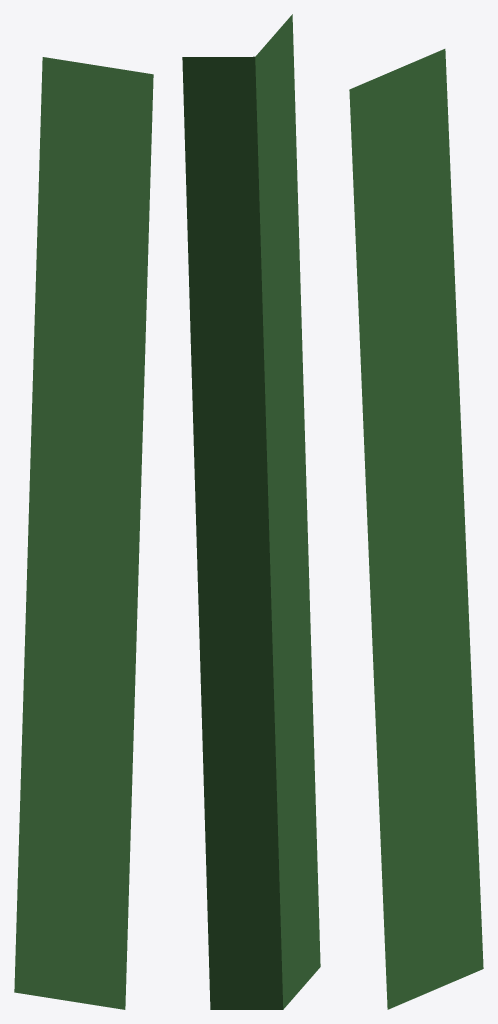
The model's file is stem_2_3.glb.
3 renders of one model, left to right at view 1: azimuth 30°, elevation 25°; view 2: azimuth 210°, elevation 25°; view 3: azimuth 270°, elevation 25°, orthographic. The views are drawn at different scales.
Parts seen in each view (by area): view 1: Icosphere; view 2: Icosphere; view 3: Icosphere.
Part boxes in pixels (x1,y1,x2,y2): Icosphere: (14,57,153,1009); Icosphere: (182,14,320,1009); Icosphere: (349,49,483,1009).
Size of the model in its own units: 0.0181 by 0.1606 by 0.0205.
Materials: 1 (1 with a texture image).
